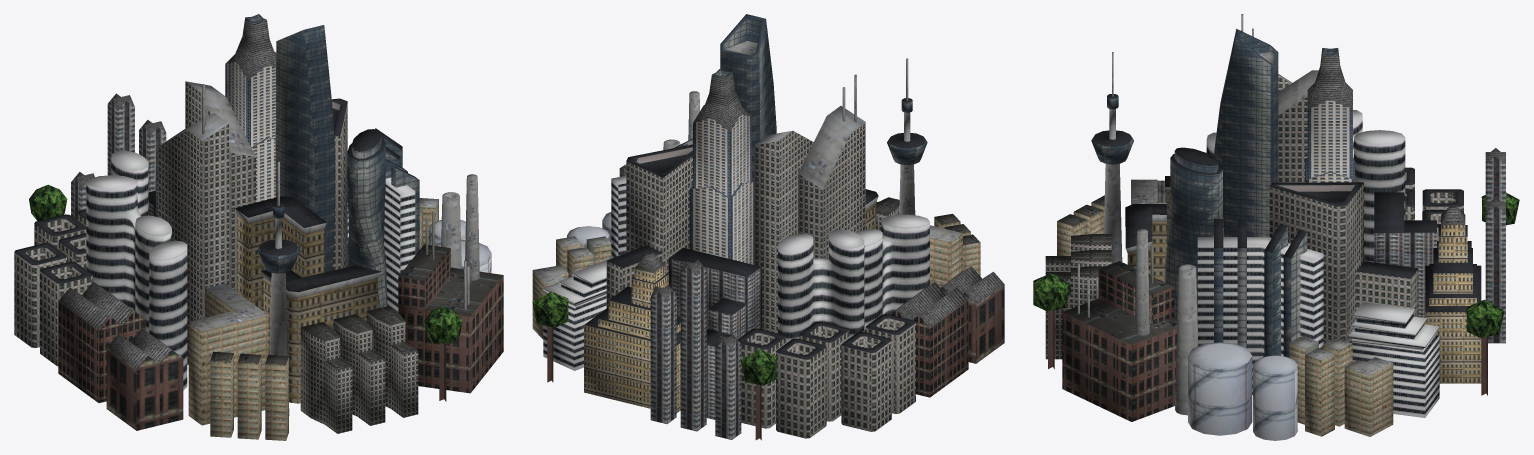
The model's file is city_modern_4.glb.
3 views of the same model, side by side, from view 1: azimuth 30°, elevation 25°; view 2: azimuth 150°, elevation 25°; view 3: azimuth 270°, elevation 25° (orthographic). The views are drawn at different scales.
Parts seen in each view (by area): view 1: ModernCity_Tier5; view 2: ModernCity_Tier5; view 3: ModernCity_Tier5.
Part boxes in pixels (x1=…): ModernCity_Tier5: x1=14, y1=14, x2=503, y2=440; ModernCity_Tier5: x1=532, y1=14, x2=1004, y2=440; ModernCity_Tier5: x1=1033, y1=14, x2=1519, y2=440.
Size of the model in its own units: 4.13 by 3.19 by 4.39.
Materials: 1 (1 with a texture image).
